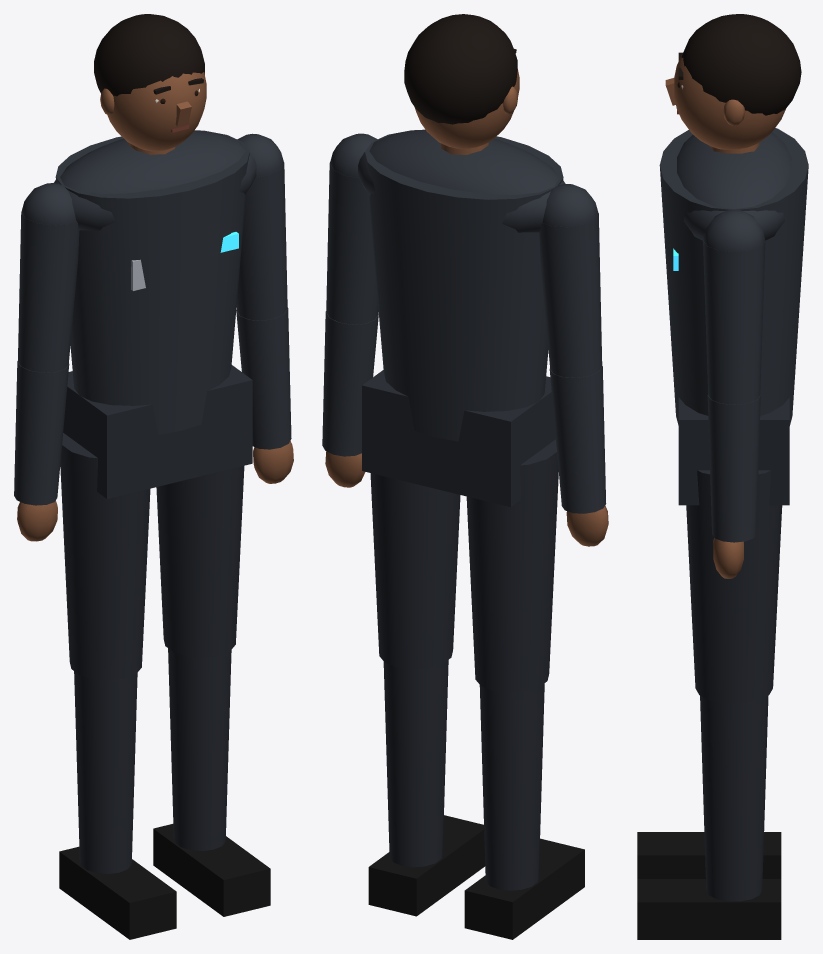
The model's file is char_extra2.glb.
3 views of the same model, side by side, from view 1: azimuth 30°, elevation 25°; view 2: azimuth 150°, elevation 25°; view 3: azimuth 270°, elevation 25° (orthographic). The views are drawn at different scales.
Parts seen in each view (by area): view 1: Torso__Char_Graphite, Thigh__Char_Pants (×2), Shin__Char_Pants (×2), UpperArm__Char_Graphite (×2), Pelvis__Char_Pants, Shin__Char_Shoes (×2), Forearm__Char_Graphite (×2), Head_Mesh__Char_Hair, Head_Mesh__Char_Skin_B, Forearm__Char_Skin_B (×2); view 2: Torso__Char_Graphite, Thigh__Char_Pants (×2), Shin__Char_Pants (×2), UpperArm__Char_Graphite (×2), Pelvis__Char_Pants, Forearm__Char_Graphite (×2), Shin__Char_Shoes (×2), Head_Mesh__Char_Hair, Head_Mesh__Char_Skin_B, Forearm__Char_Skin_B (×2); view 3: Torso__Char_Graphite, Thigh__Char_Pants, Shin__Char_Pants, Shin__Char_Shoes (×2), UpperArm__Char_Graphite, Head_Mesh__Char_Hair, Forearm__Char_Graphite, Pelvis__Char_Pants, Head_Mesh__Char_Skin_B, Forearm__Char_Skin_B.
Boxes of the visible parts, x1,y1,x2,y2 form: Torso__Char_Graphite: [54, 130, 256, 434]; Thigh__Char_Pants (×2): [60, 433, 244, 680]; Shin__Char_Pants (×2): [74, 648, 231, 873]; UpperArm__Char_Graphite (×2): [18, 133, 287, 372]; Pelvis__Char_Pants: [63, 365, 252, 498]; Shin__Char_Shoes (×2): [59, 824, 270, 939]; Forearm__Char_Graphite (×2): [14, 307, 291, 505]; Head_Mesh__Char_Hair: [94, 14, 204, 96]; Head_Mesh__Char_Skin_B: [100, 72, 206, 154]; Forearm__Char_Skin_B (×2): [17, 441, 293, 541]; Torso__Char_Graphite: [358, 129, 565, 441]; Thigh__Char_Pants (×2): [370, 439, 558, 692]; Shin__Char_Pants (×2): [383, 660, 544, 890]; UpperArm__Char_Graphite (×2): [326, 133, 602, 377]; Pelvis__Char_Pants: [362, 370, 555, 507]; Forearm__Char_Graphite (×2): [322, 311, 606, 513]; Shin__Char_Shoes (×2): [368, 815, 584, 939]; Head_Mesh__Char_Hair: [404, 14, 517, 124]; Head_Mesh__Char_Skin_B: [414, 69, 519, 154]; Forearm__Char_Skin_B (×2): [325, 451, 608, 546]; Torso__Char_Graphite: [659, 128, 808, 425]; Thigh__Char_Pants: [686, 470, 782, 703]; Shin__Char_Pants: [700, 695, 768, 901]; Shin__Char_Shoes (×2): [637, 832, 781, 939]; UpperArm__Char_Graphite: [703, 209, 765, 404]; Head_Mesh__Char_Hair: [681, 14, 801, 115]; Forearm__Char_Graphite: [707, 395, 760, 542]; Pelvis__Char_Pants: [678, 397, 789, 505]; Head_Mesh__Char_Skin_B: [665, 53, 785, 153]; Forearm__Char_Skin_B: [713, 538, 743, 578].
Bounding box in the file's own units: 0.5852 × 1.76 × 0.3094.
